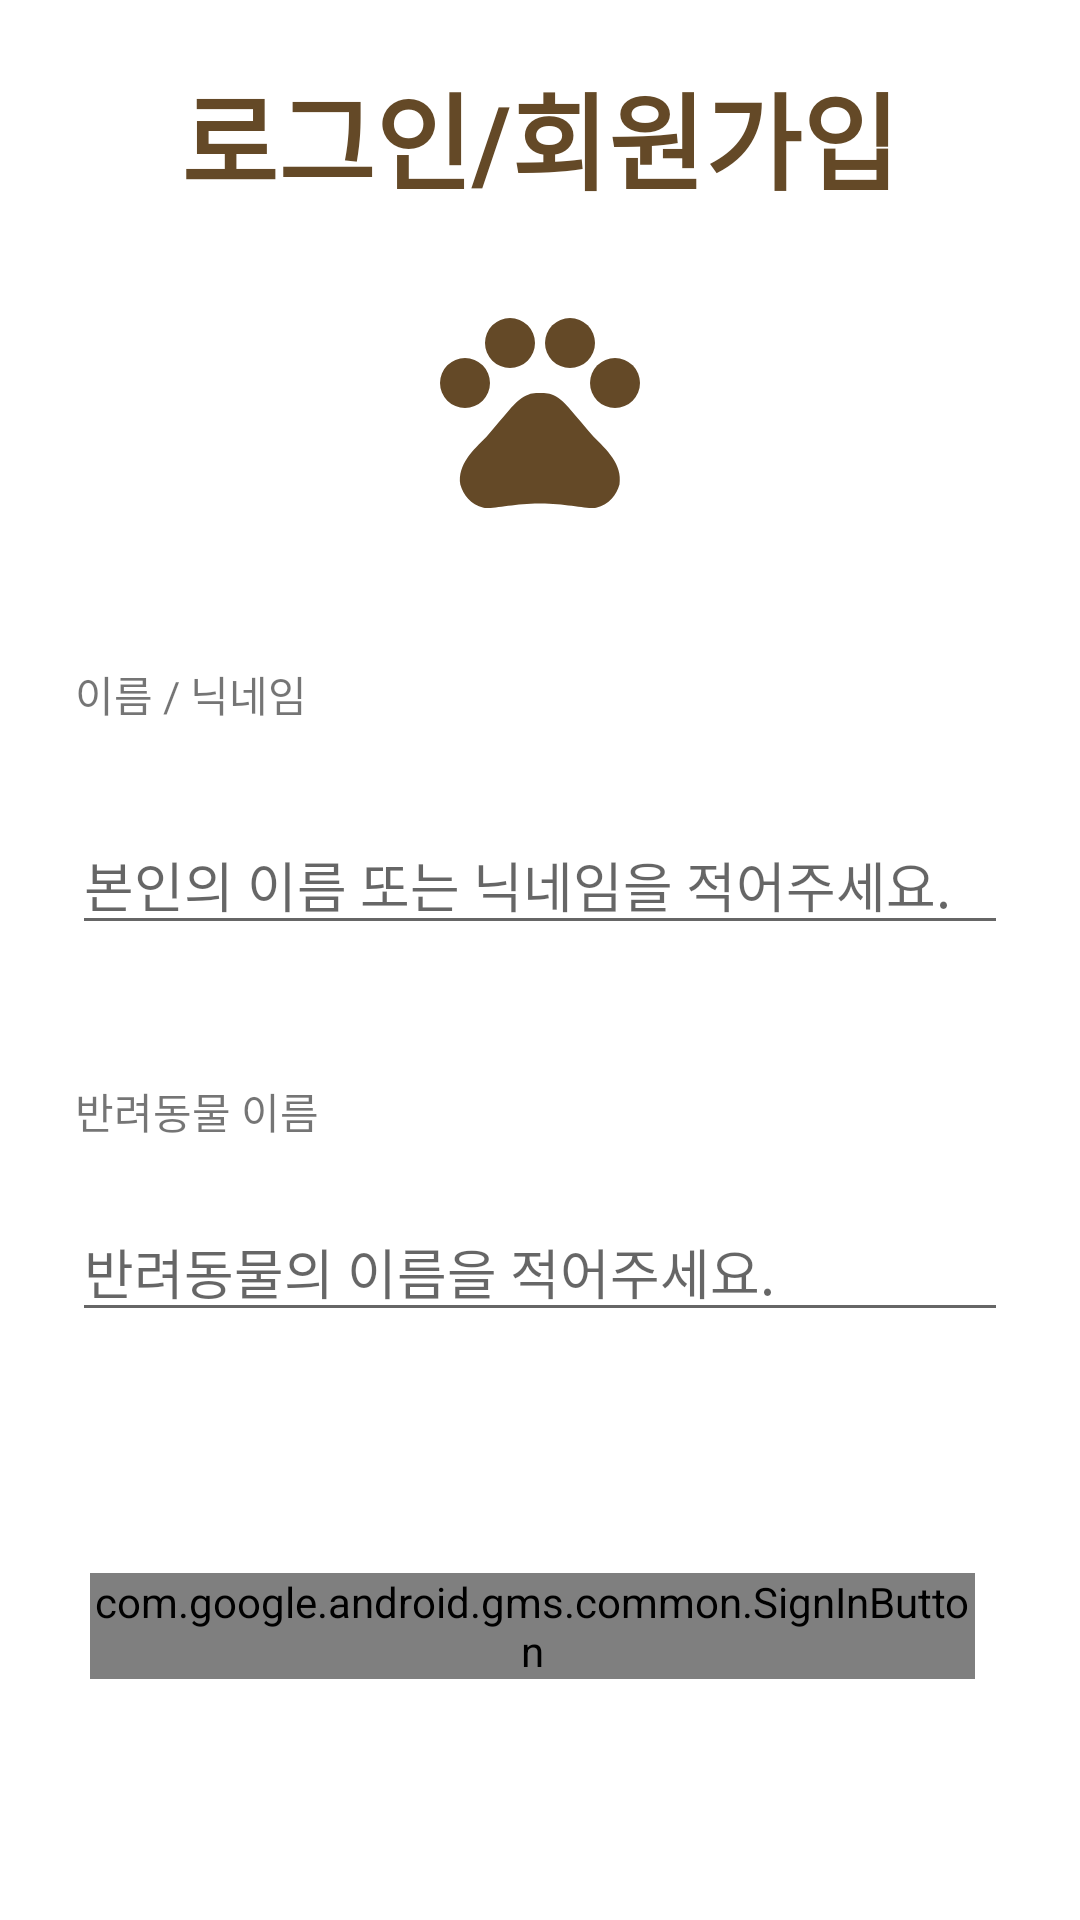

Where icons sit on this 1080 × 1920 app screen, as (x1, y1, x2, y2):
pets: (440, 318, 640, 508)
